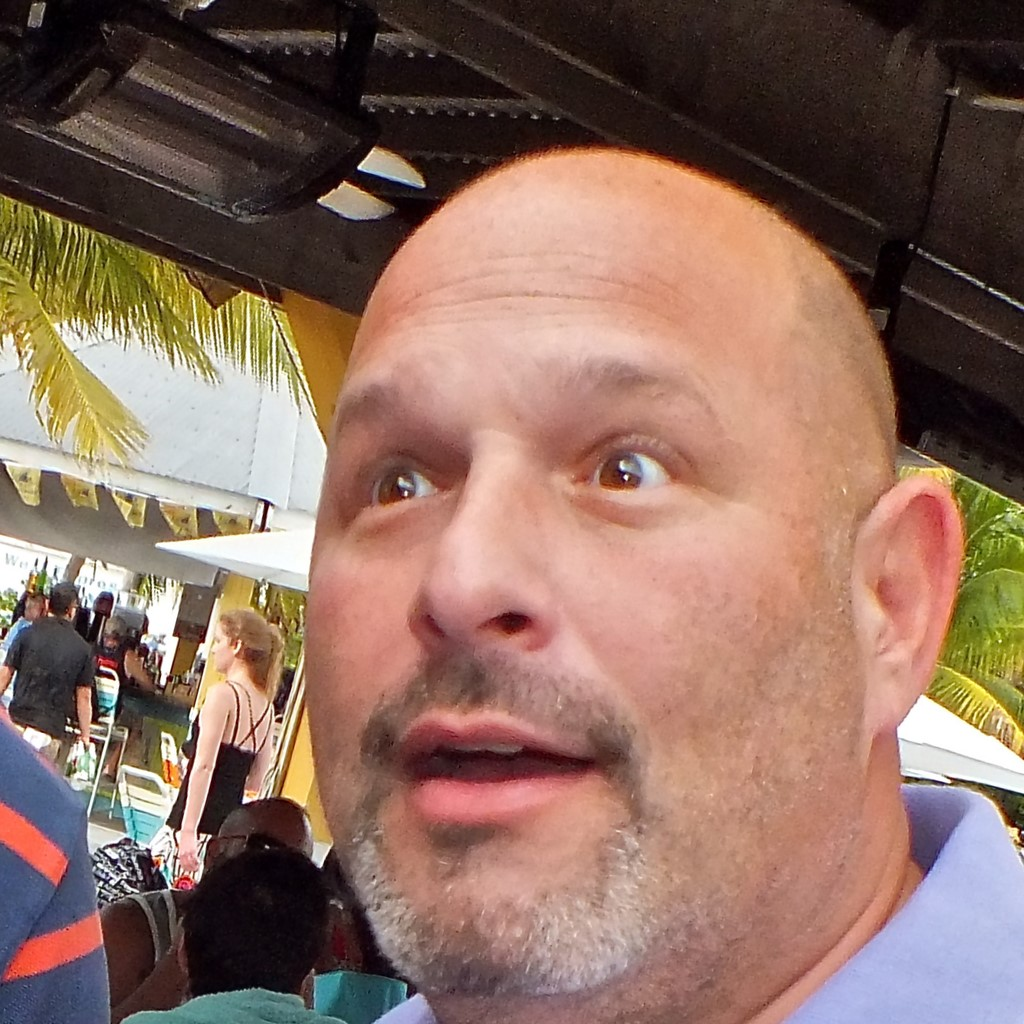sin_mascara: (307, 154, 910, 996)
